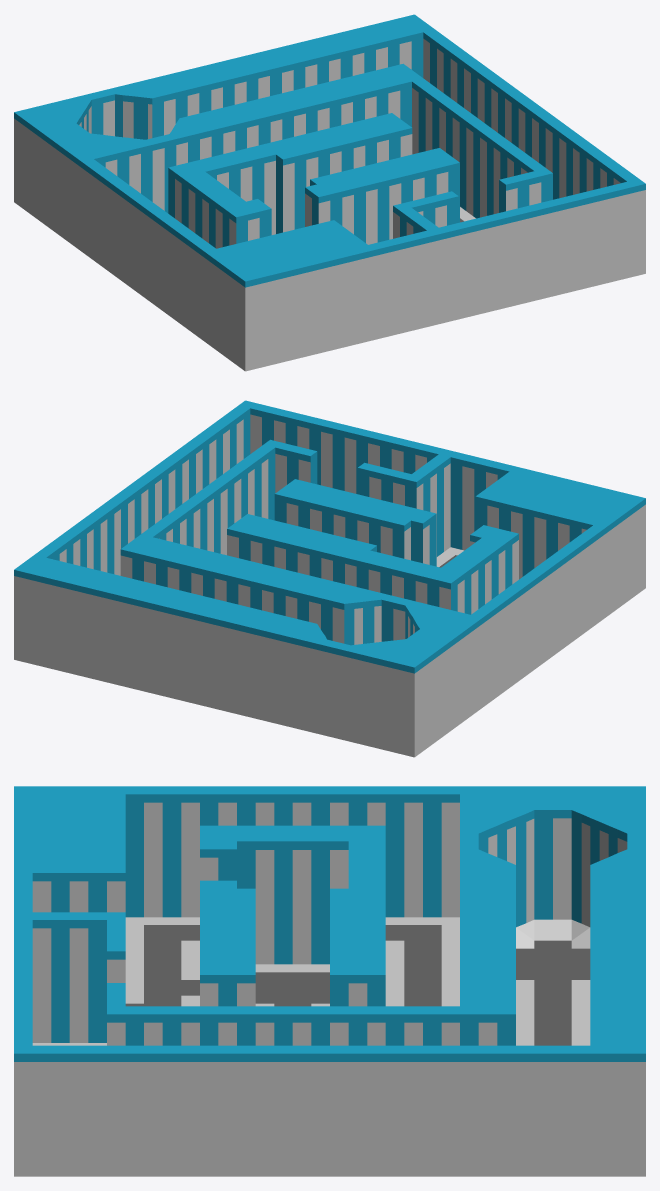
File: levelobj4.fbx
3 views of the same model, one above another, from view 1: azimuth 30°, elevation 25°; view 2: azimuth 150°, elevation 25°; view 3: azimuth 270°, elevation 25° (orthographic). The views are drawn at different scales.
Visible parts, largest first — view 1: Plane; view 2: Plane; view 3: Plane.
Part boxes in pixels (box(x1,y1,x2,y2)): Plane: box(14, 14, 645, 371); Plane: box(14, 400, 645, 757); Plane: box(14, 786, 645, 1176).
Size of the model in its own units: 2400 by 520 by 2400.
